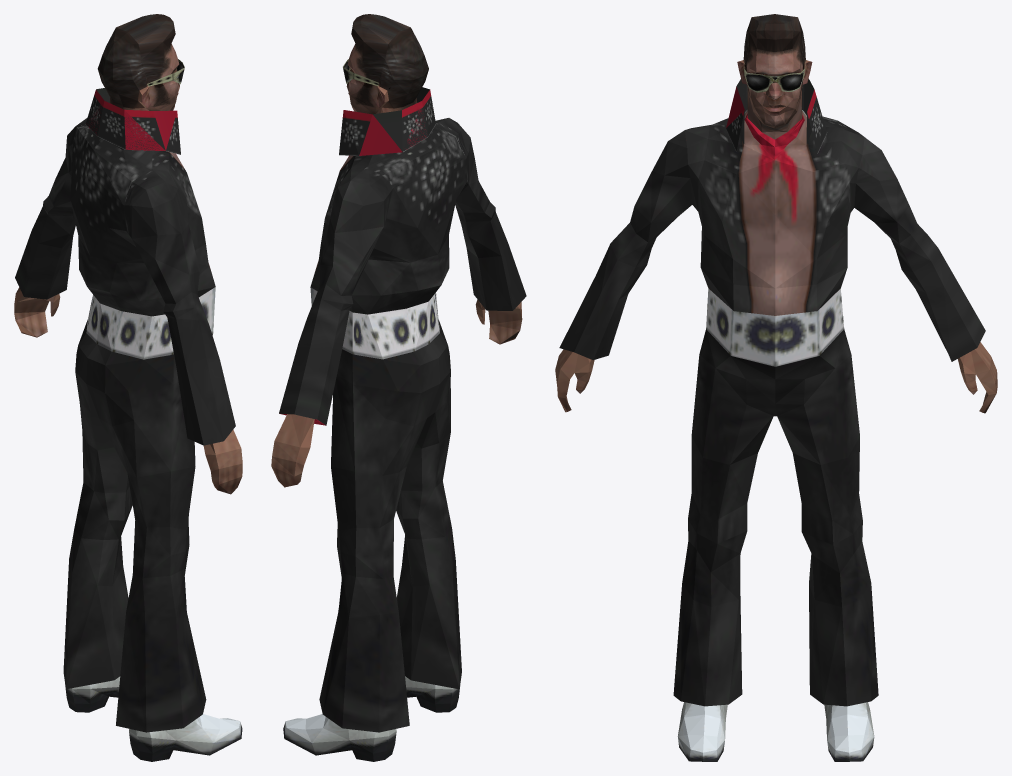
File: vhmyelv.obj
3 views of the same model, side by side, from view 1: azimuth 30°, elevation 25°; view 2: azimuth 150°, elevation 25°; view 3: azimuth 270°, elevation 25° (orthographic). The views are drawn at different scales.
Visible parts, largest first — view 1: _Pelvis; view 2: _Pelvis; view 3: _Pelvis.
Part boxes in pixels (x1,y1,x2,y2): _Pelvis: (14, 14, 242, 761); _Pelvis: (271, 14, 526, 761); _Pelvis: (555, 14, 997, 761).
Size of the model in its own units: 0.345 by 1.88 by 1.04.
1 material, 1 textured.
